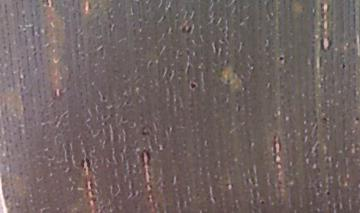tarspot: (188, 80, 199, 91), (323, 187, 332, 200), (338, 61, 349, 71), (277, 53, 286, 65)
